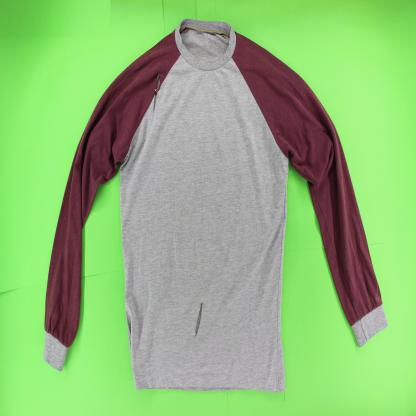hole: (152, 69, 162, 115), (194, 298, 203, 341)
